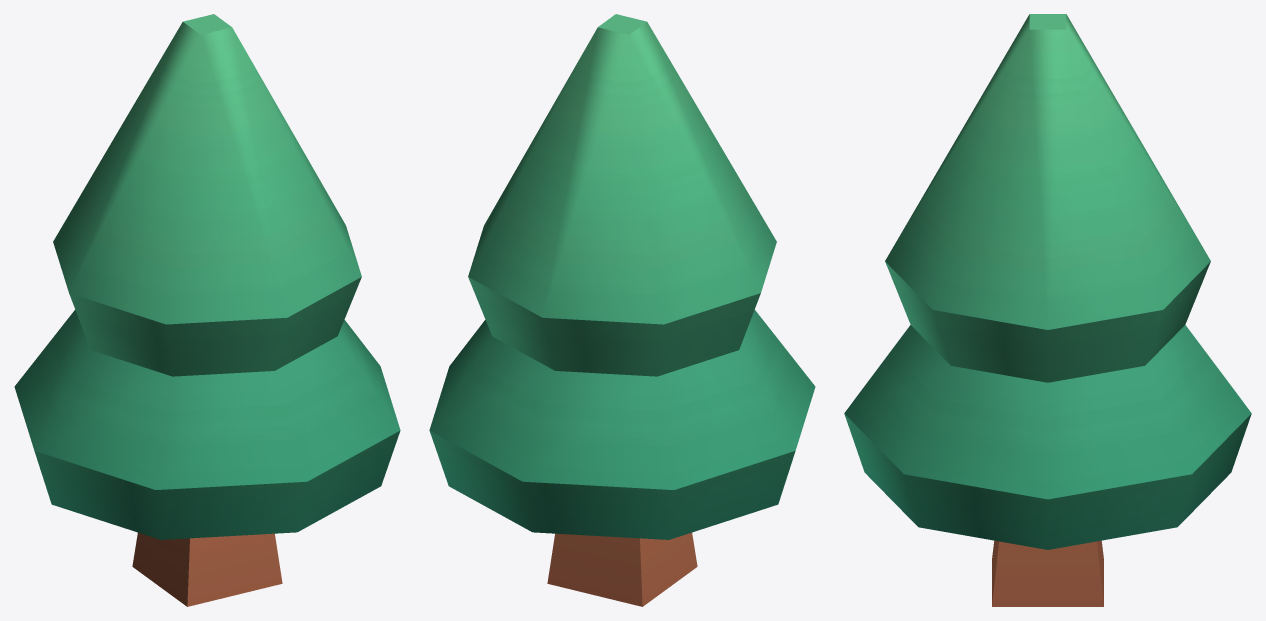
The model's file is detail-tree-large.glb.
The picture shows the model from 3 angles, left to right: view 1: azimuth 30°, elevation 25°; view 2: azimuth 150°, elevation 25°; view 3: azimuth 270°, elevation 25°; orthographic projection.
Visible parts, largest first — view 1: detail-tree-large; view 2: detail-tree-large; view 3: detail-tree-large.
Part boxes in pixels (left/top/right/bottom): detail-tree-large: left=14, top=14, right=400, bottom=606; detail-tree-large: left=429, top=14, right=815, bottom=606; detail-tree-large: left=844, top=14, right=1251, bottom=606.
Bounding box in the file's own units: 0.5 × 0.76 × 0.5.
1 material, 1 textured.
